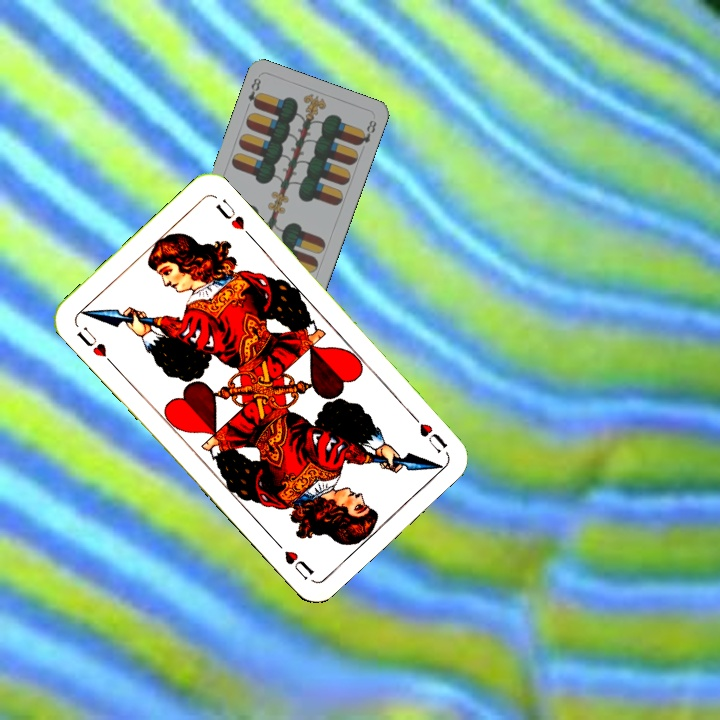E8: (244, 74, 264, 111)
HU: (405, 408, 450, 456), (72, 322, 117, 368)
